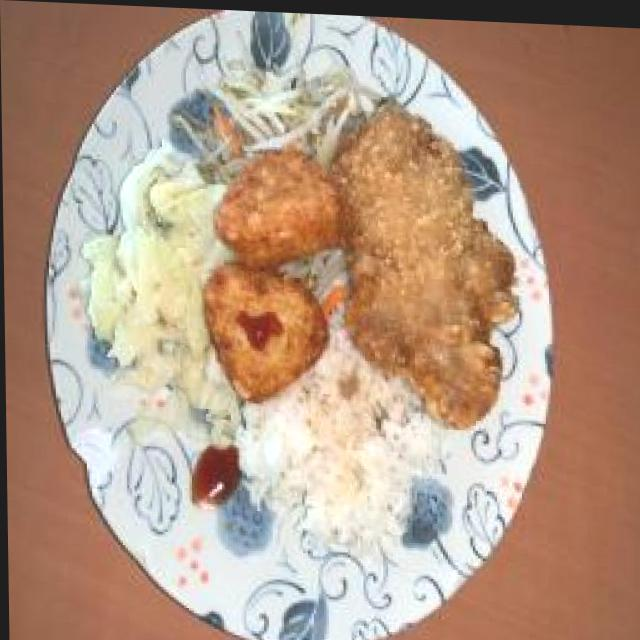chinese_cabbage: (92, 150, 213, 412)
fried_chicken: (356, 132, 490, 412)
mung_bean_sprouts: (201, 60, 357, 155)
rice: (261, 377, 411, 537)
triangle_hash_brown: (209, 152, 339, 397)
